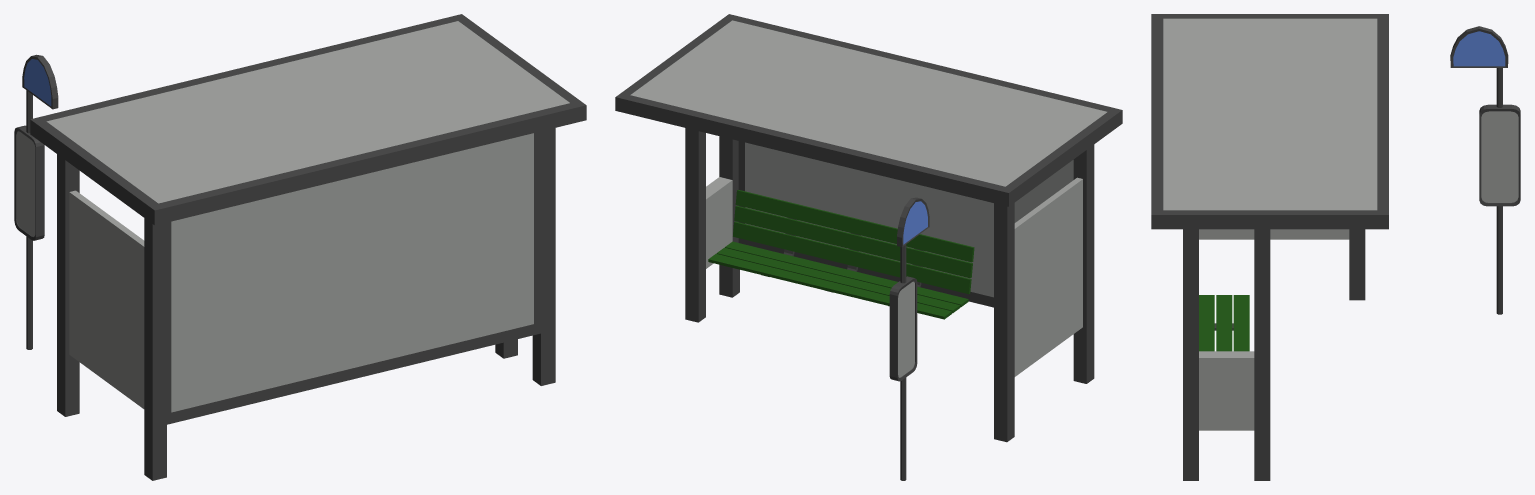
File: Bus Stop.fbx
3 renders of one model, left to right at view 1: azimuth 30°, elevation 25°; view 2: azimuth 150°, elevation 25°; view 3: azimuth 270°, elevation 25°, orthographic. The views are drawn at different scales.
Visible parts, largest first — view 1: Bus Stop; view 2: Bus Stop; view 3: Bus Stop.
Part boxes in pixels (<box>): Bus Stop: <box>14,14,586,480</box>; Bus Stop: <box>615,14,1122,480</box>; Bus Stop: <box>1151,14,1520,480</box>.
Size of the model in its own units: 300 by 199 by 233.
